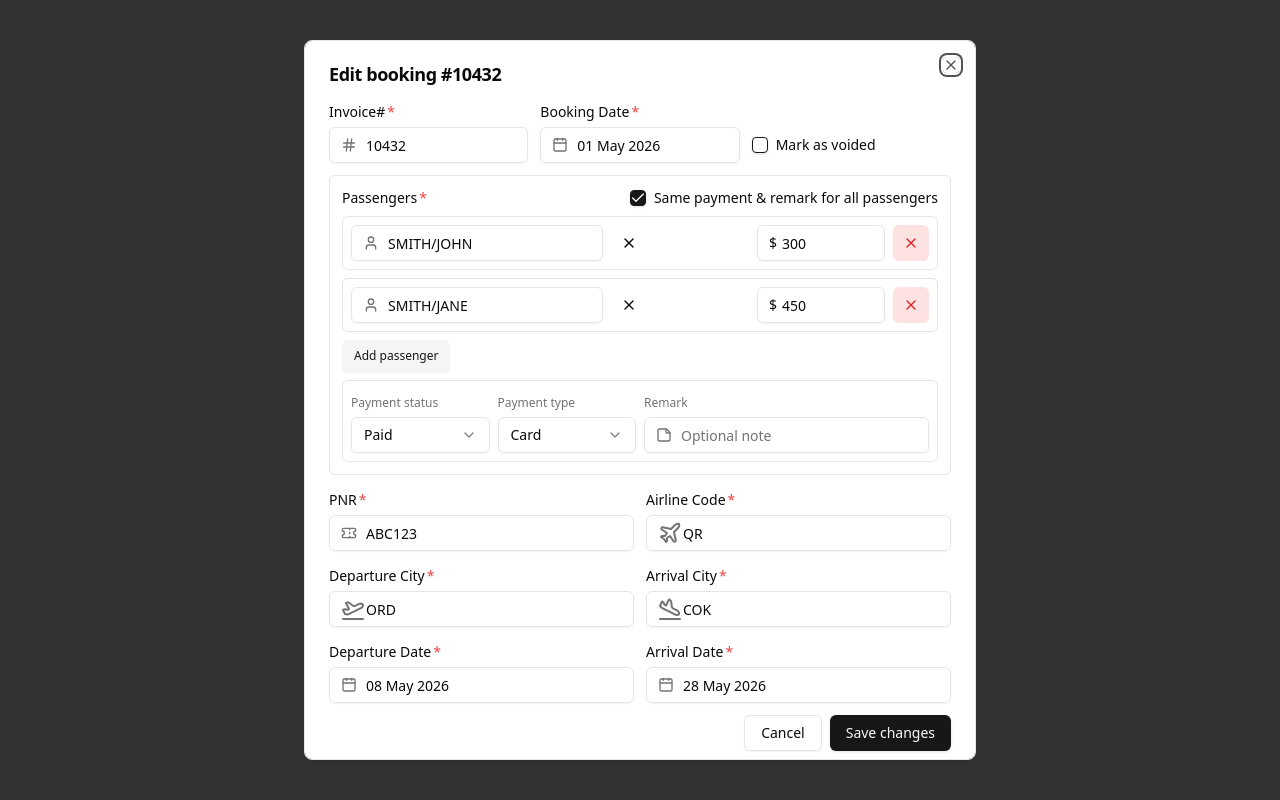
EditBookingDialog › keeps typed input across a background refetch mid-edit
Check: the field showing "10432" is shown, box [329,127,528,163]
Type "follow up needed" into the field labelled "Remark" at (786, 435), box [644,417,929,453]
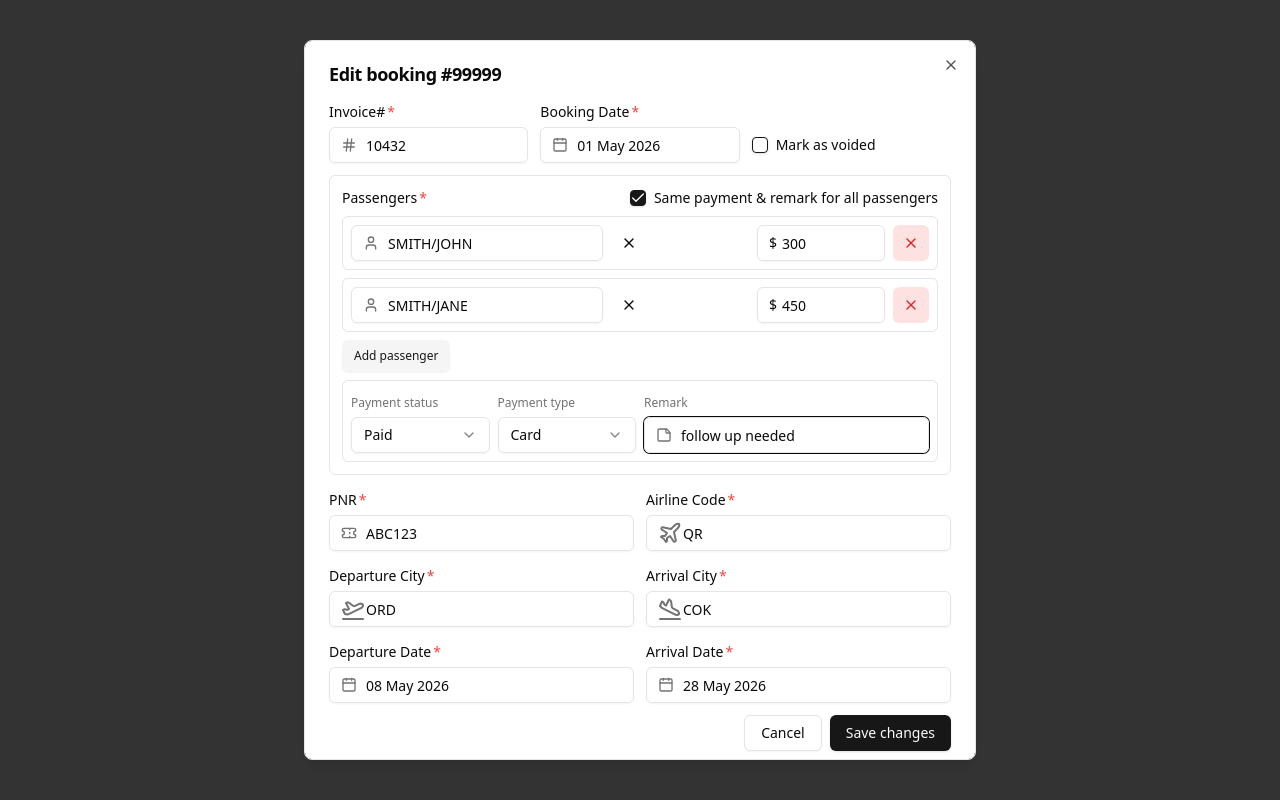
Check: the field named "Invoice number" holds "10432", box [329,127,528,163]
Check: the heading "Edit booking #99999" is shown, box [329,62,501,86]
